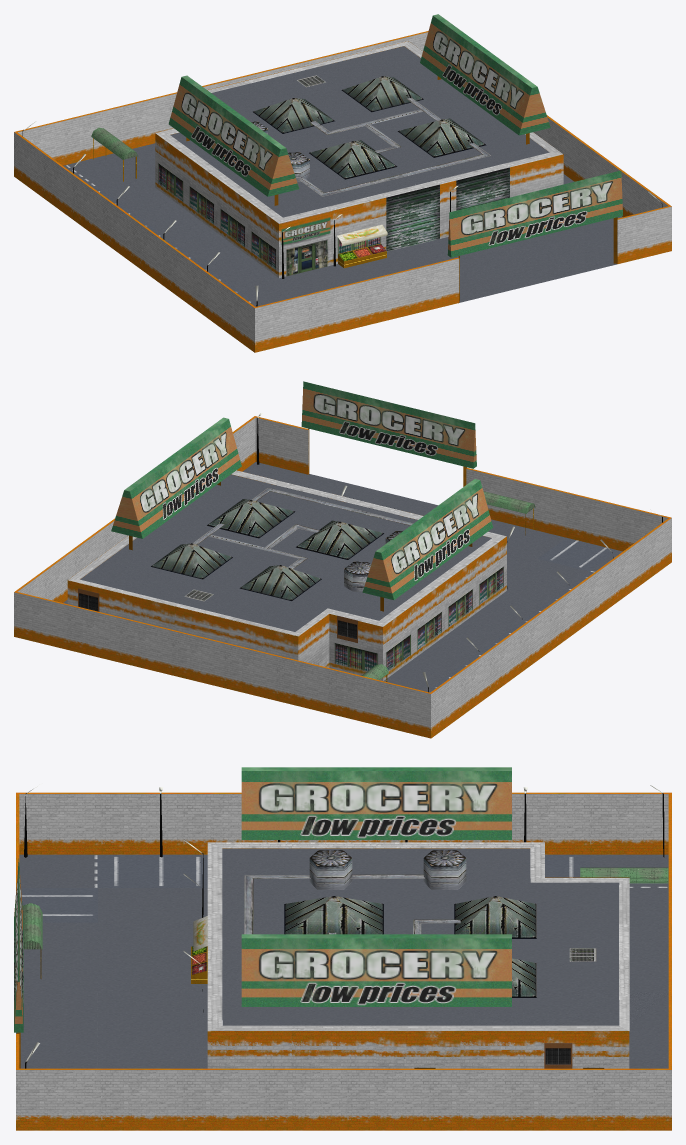
The model's file is BLD_FoodShop_L2.FBX.
3 renders of one model, top to bottom at view 1: azimuth 30°, elevation 25°; view 2: azimuth 150°, elevation 25°; view 3: azimuth 270°, elevation 25°, orthographic. The views are drawn at different scales.
Visible parts, largest first — view 1: B_appro_T1_L2; view 2: B_appro_T1_L2; view 3: B_appro_T1_L2.
Boxes of the visible parts, x1,y1,x2,y2 form: B_appro_T1_L2: (14,14,671,352); B_appro_T1_L2: (14,381,671,738); B_appro_T1_L2: (14,767,671,1130).
Bounding box in the file's own units: 4000 × 4012 × 1071.
